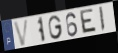1: (37, 16, 47, 44)
6: (65, 12, 79, 38)
E: (79, 8, 98, 35)
G: (47, 15, 64, 40)
I: (98, 5, 106, 33)
V: (13, 18, 30, 47)
